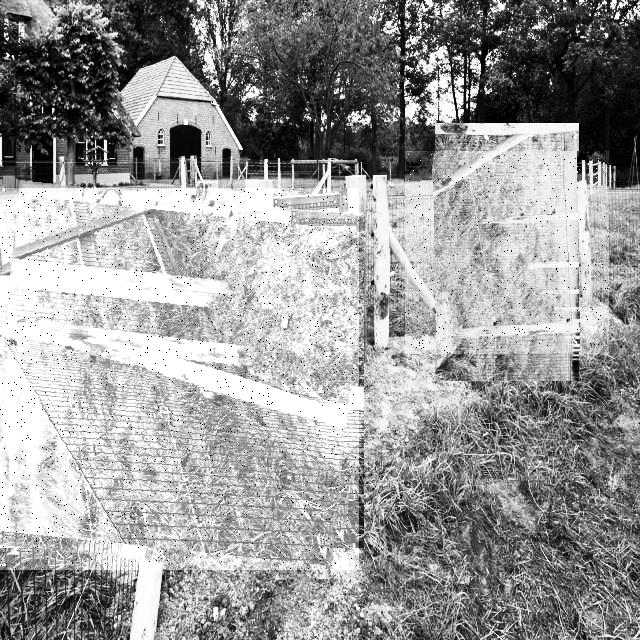fences: (0, 188, 359, 570), (405, 151, 609, 354)
